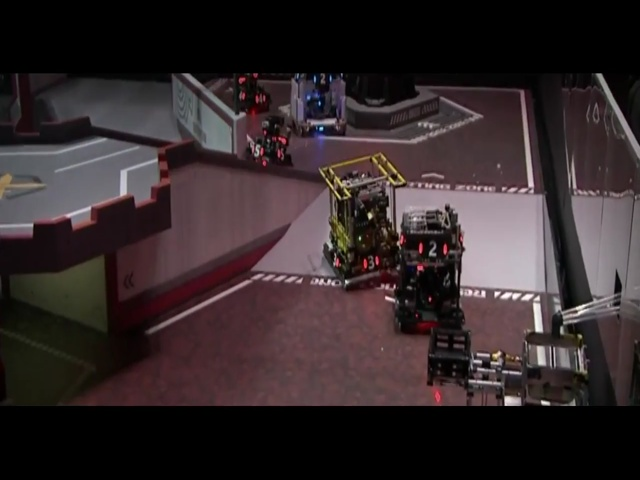bluePlate: (270, 157, 300, 179), (394, 330, 417, 353), (314, 133, 333, 159), (338, 325, 353, 349), (115, 204, 133, 222), (147, 203, 162, 224), (339, 134, 352, 153)
redPlate: (134, 328, 180, 357), (196, 314, 214, 349), (233, 164, 250, 188)
